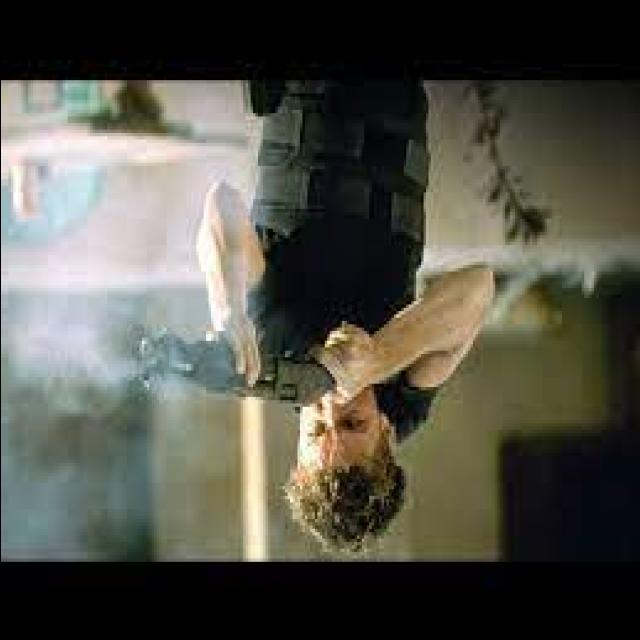weapons: (107, 273, 375, 443)
